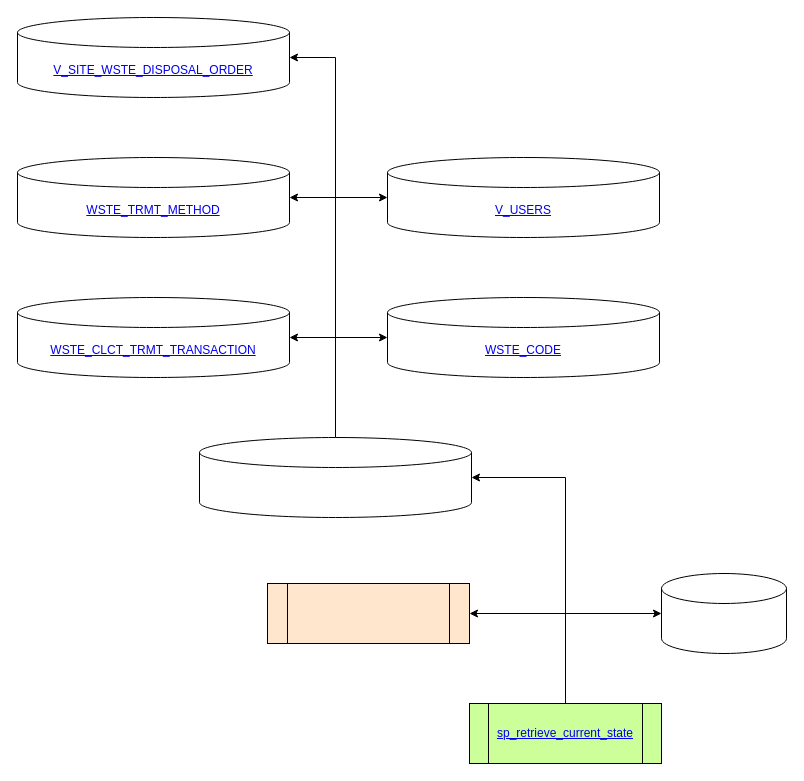
This 804x781 diagram has some shape labels left out. The centre of each missing label's shape, as x and y in pixels:
sp_return_results: (x=368, y=613)
USERS: (x=723, y=613)
V_WSTE_CLCT_TRMT_TRANSACTION: (x=335, y=477)
